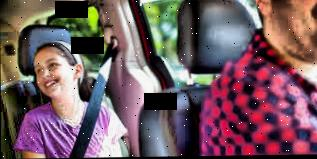seatbelt: (68, 33, 120, 158)
